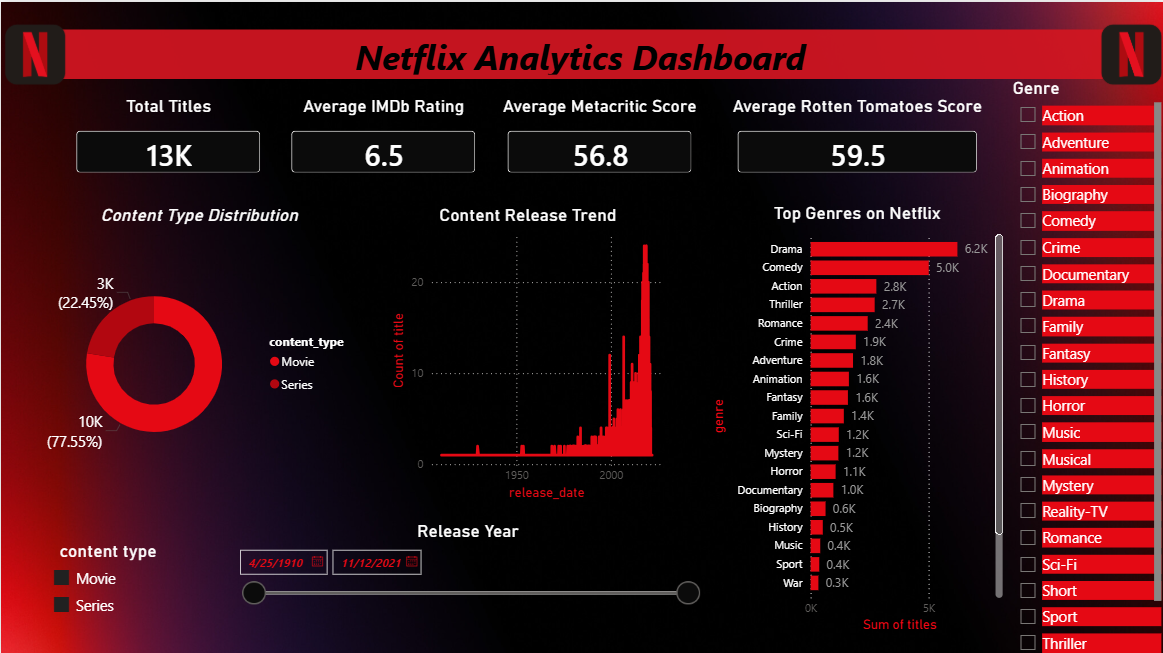

What the dashboard file says about the page in this screenshot:
{"tool":"powerbi","page":{"name":"Page 1","canvas":[1280,720],"ordinal":0},"visuals":[{"type":"textbox","box":[44.3,30,1194.3,54.3],"z":0},{"type":"image","box":[1204.3,22.9,75.7,68.6],"z":1000},{"type":"image","box":[0,22.9,75.7,68.6],"z":2000},{"type":"cardVisual","title":"Average IMDb Rating","fields":{"Data":["Avg(public netflix_clean.imdb_score)"]},"box":[302.6,103.6,236.7,102.2],"z":3000},{"type":"cardVisual","title":"Average Metacritic Score","fields":{"Data":["Avg(public netflix_clean.metacritic_score)"]},"box":[539.3,103.6,236.7,102.2],"z":4000},{"type":"donutChart","title":"Content Type Distribution","fields":{"Y":["public netflix_clean.Total Titles"],"Category":["public netflix_clean.content_type"]},"box":[37.7,221.9,361.8,329.5],"z":5000},{"type":"barChart","title":"Top Genres on Netflix","fields":{"Y":["Sum(public vw_genre_performance.titles)"],"Category":["public vw_genre_performance.genre"]},"box":[776.7,221.7,330,476.7],"z":6000},{"type":"lineChart","title":"Content Release Trend","fields":{"Category":["public netflix_clean.release_date"],"Y":["CountNonNull(public netflix_clean.title)"]},"box":[425,221.9,309.3,329.5],"z":7000},{"type":"slicer","title":"content type","fields":{"Values":["public netflix_clean.content_type"]},"box":[45,591.7,145,106.7],"z":8000},{"type":"slicer","title":"Genre","fields":{"Values":["public vw_genre_performance.genre"]},"box":[1106.7,83.3,173.3,636.7],"z":9000},{"type":"slicer","title":"Release Year","fields":{"Values":["public netflix_clean.release_date"]},"box":[250,570,526.7,150],"z":10000},{"type":"cardVisual","title":"Total Titles","fields":{"Data":["public netflix_clean.Total Titles"]},"box":[65.9,103.6,236.7,102.2],"z":11000},{"type":"cardVisual","title":"Average Rotten Tomatoes Score","fields":{"Data":["Avg(public netflix_clean.Rotten Tomatoes Score)"]},"box":[792.1,103.6,297.2,102.2],"z":12000}]}

Visuals, with their boxes in screenshot pixels (x1, y1, x2, y2), scaled from the page's 1280x720 canvas onto the 1163x653 screenshot:
textbox: Rect(40, 27, 1125, 76)
image: Rect(1094, 21, 1162, 83)
image: Rect(0, 21, 69, 83)
"Average IMDb Rating" cardVisual: Rect(275, 94, 490, 187)
"Average Metacritic Score" cardVisual: Rect(490, 94, 705, 187)
"Content Type Distribution" donutChart: Rect(34, 201, 363, 500)
"Top Genres on Netflix" barChart: Rect(706, 201, 1006, 633)
"Content Release Trend" lineChart: Rect(386, 201, 667, 500)
"content type" slicer: Rect(41, 537, 173, 633)
"Genre" slicer: Rect(1006, 76, 1162, 652)
"Release Year" slicer: Rect(227, 517, 706, 652)
"Total Titles" cardVisual: Rect(60, 94, 275, 187)
"Average Rotten Tomatoes Score" cardVisual: Rect(720, 94, 990, 187)
